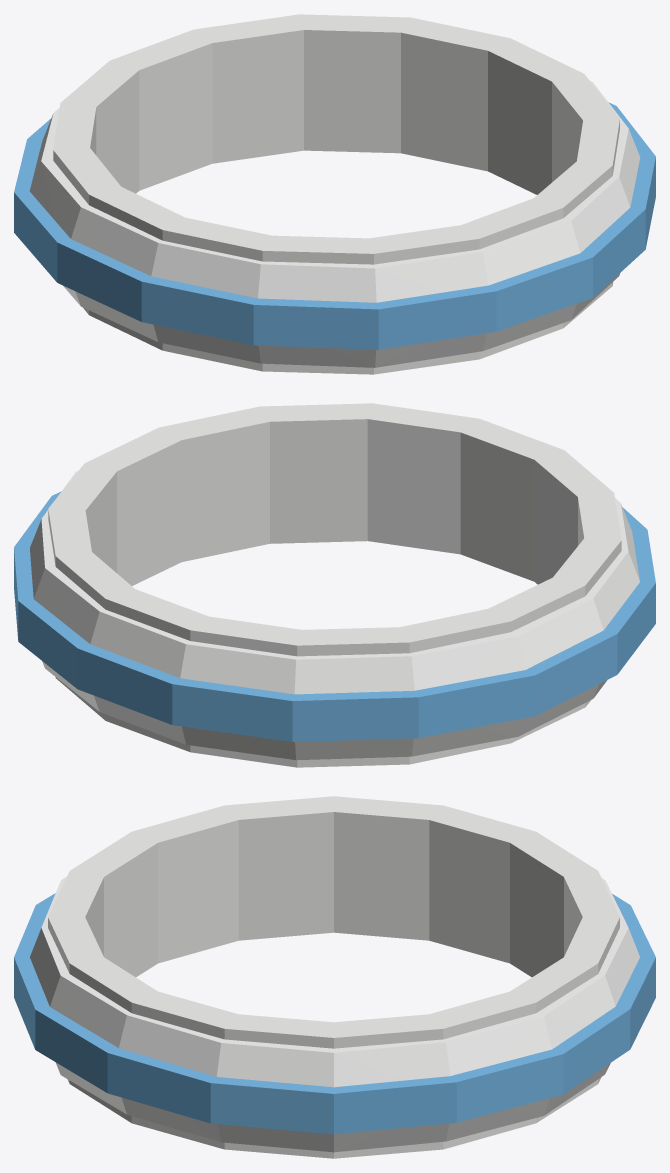
File: Sweatband.fbx
3 views of the same model, one above another, from view 1: azimuth 30°, elevation 25°; view 2: azimuth 150°, elevation 25°; view 3: azimuth 270°, elevation 25° (orthographic).
Parts seen in each view (by area): view 1: Sweatband.Hem, Sweatband.Terry, Sweatband.Stripe; view 2: Sweatband.Hem, Sweatband.Terry, Sweatband.Stripe; view 3: Sweatband.Hem, Sweatband.Terry, Sweatband.Stripe.
Boxes of the visible parts, x1=… form: Sweatband.Hem: x1=53, y1=14, x2=619, y2=374; Sweatband.Terry: x1=29, y1=81, x2=640, y2=367; Sweatband.Stripe: x1=14, y1=102, x2=655, y2=349; Sweatband.Hem: x1=48, y1=403, x2=621, y2=767; Sweatband.Terry: x1=30, y1=471, x2=639, y2=760; Sweatband.Stripe: x1=14, y1=491, x2=655, y2=741; Sweatband.Hem: x1=48, y1=796, x2=619, y2=1158; Sweatband.Terry: x1=30, y1=876, x2=639, y2=1152; Sweatband.Stripe: x1=14, y1=893, x2=655, y2=1134.
Size of the model in its own units: 1.65 by 0.34 by 1.64.
